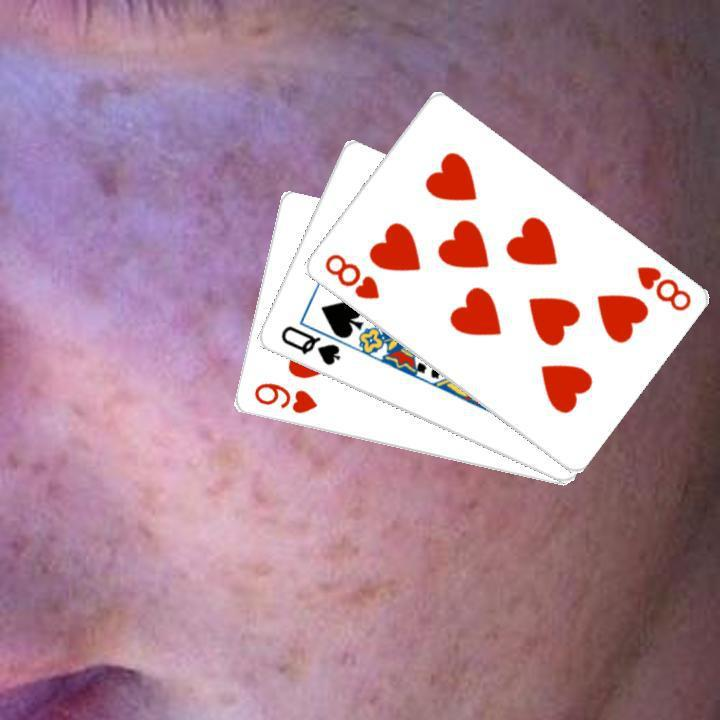8: (319, 249, 381, 302), (631, 261, 693, 314)
9: (249, 378, 319, 416)
Q: (275, 321, 342, 368)
